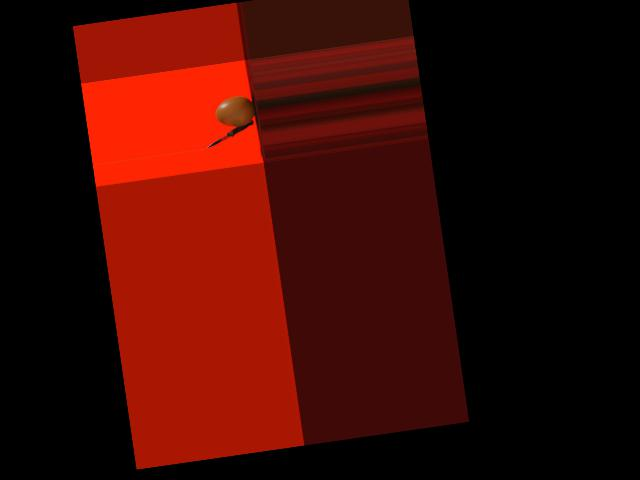egg: (214, 94, 256, 129)
